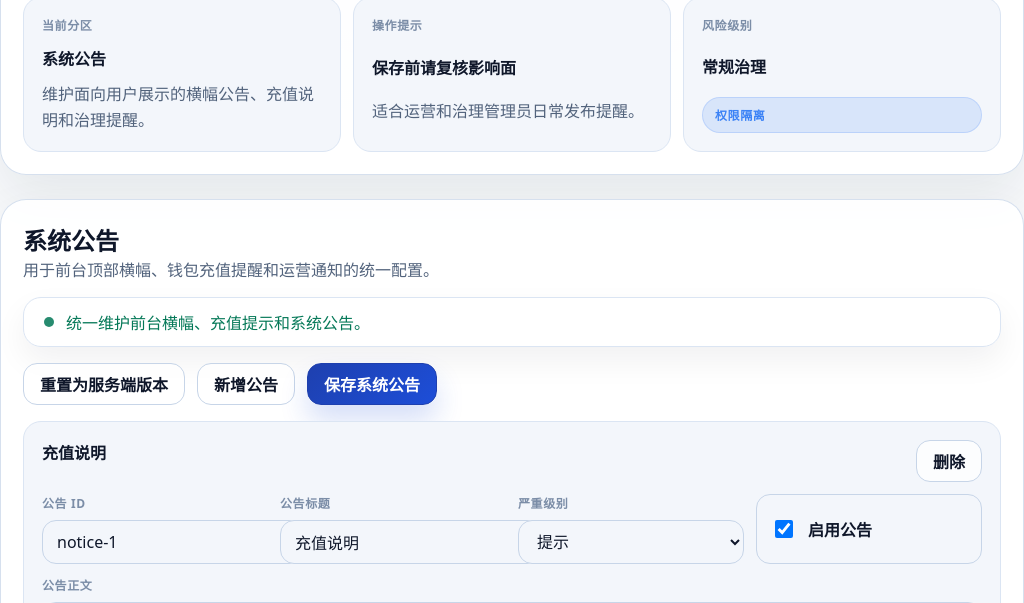
Test: GovernancePage › saves system notices with If-Match revision header after confirmation
The image size is (1024, 603).
(page scrolled)
expect the heading "系统公告" is shown: met, box [23,224,119,257]
Step 1. Click the button "保存系统公告" → (372, 384), box [307,363,437,405]
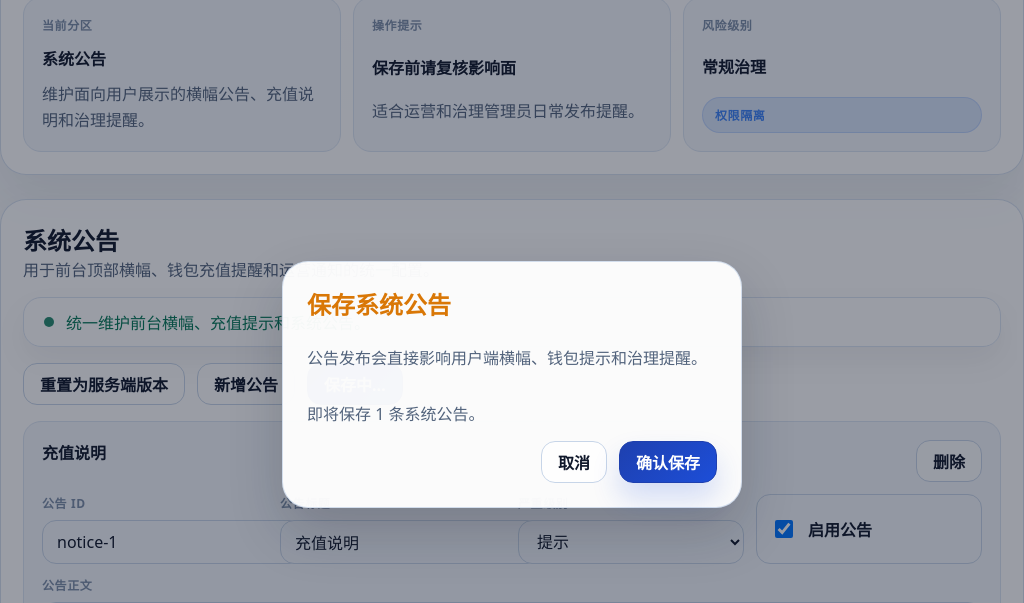
expect the dialog "保存系统公告" is shown: met, box [282,260,742,508]
Step 2. Click the button "确认保存" → (668, 462), box [619,440,717,482]
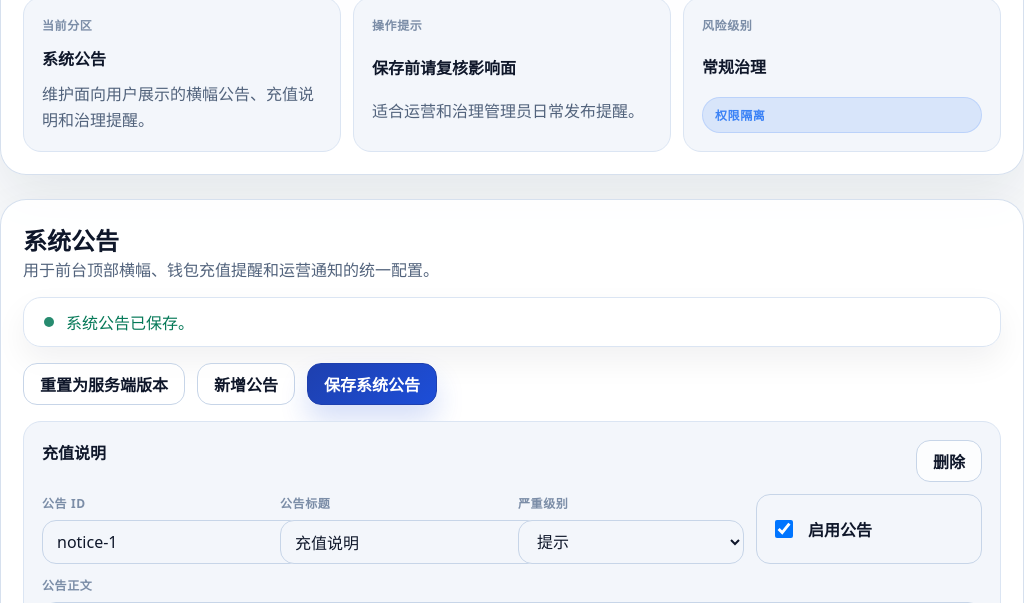
expect the text "系统公告已保存。" is shown: met, box [23,297,1001,347]
